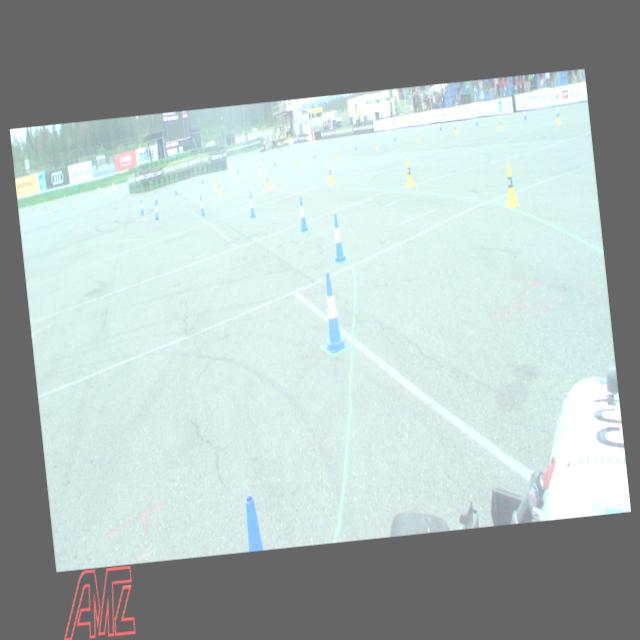blue_cone: (320, 273, 344, 349), (242, 492, 262, 550), (330, 214, 346, 262), (296, 195, 308, 230), (247, 190, 256, 218), (198, 195, 206, 215), (152, 202, 158, 219), (139, 200, 143, 214), (154, 191, 158, 204), (556, 102, 560, 115), (438, 120, 442, 131), (522, 109, 526, 119), (312, 148, 316, 158), (475, 114, 478, 125), (200, 172, 203, 183), (273, 157, 276, 166), (174, 182, 176, 194), (236, 163, 238, 173), (354, 140, 356, 149), (393, 131, 395, 140)
yellow_cone: (503, 162, 518, 206), (404, 158, 414, 185), (264, 172, 270, 189), (327, 162, 332, 182), (216, 178, 222, 194), (556, 109, 560, 123), (498, 116, 502, 129), (214, 176, 218, 188), (232, 166, 236, 178), (453, 123, 456, 134), (296, 154, 299, 164), (258, 161, 261, 171), (375, 139, 377, 149), (416, 131, 418, 141), (334, 148, 336, 157)
